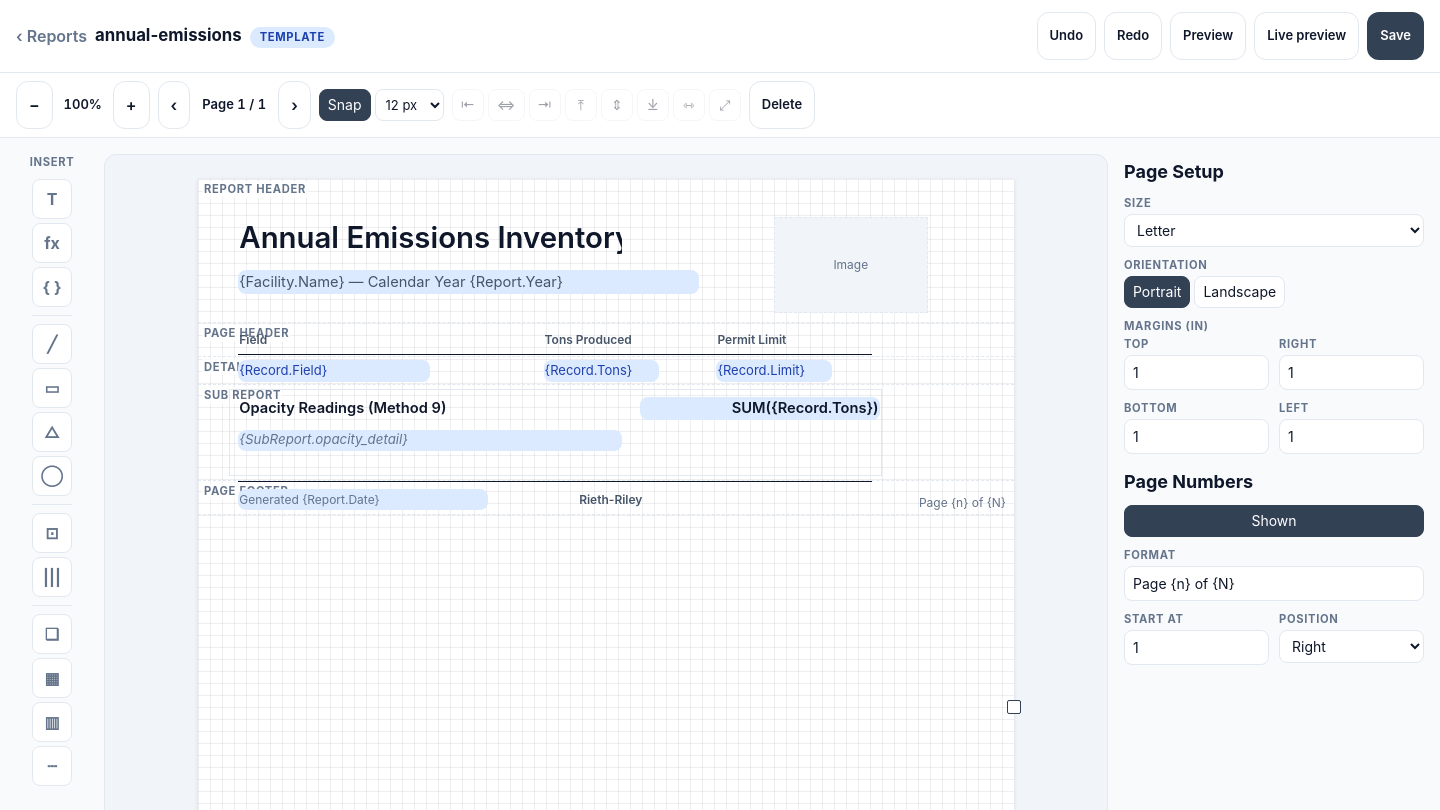
Test case: ReportBuilderScreen — selection (Phase 3) › clears the selection when the empty canvas is clicked
Step 1. Click the button "Annual Emissions Inventory" → click(430, 238), box [238, 221, 622, 254]
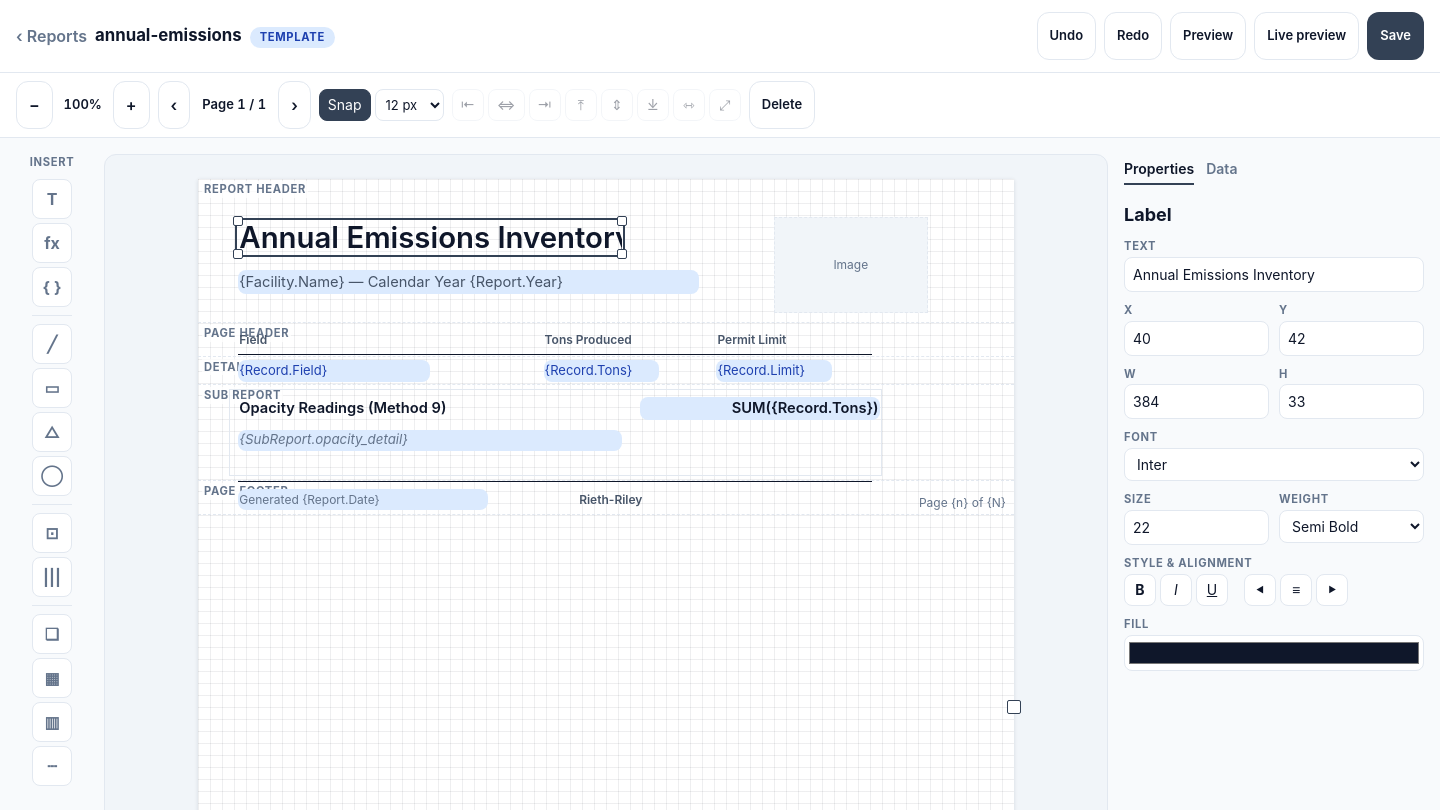
// Click the band region itself (not an element) to clear the selection.
Step 2. Click the element "Report Header" → click(606, 251), box [198, 179, 1014, 323]
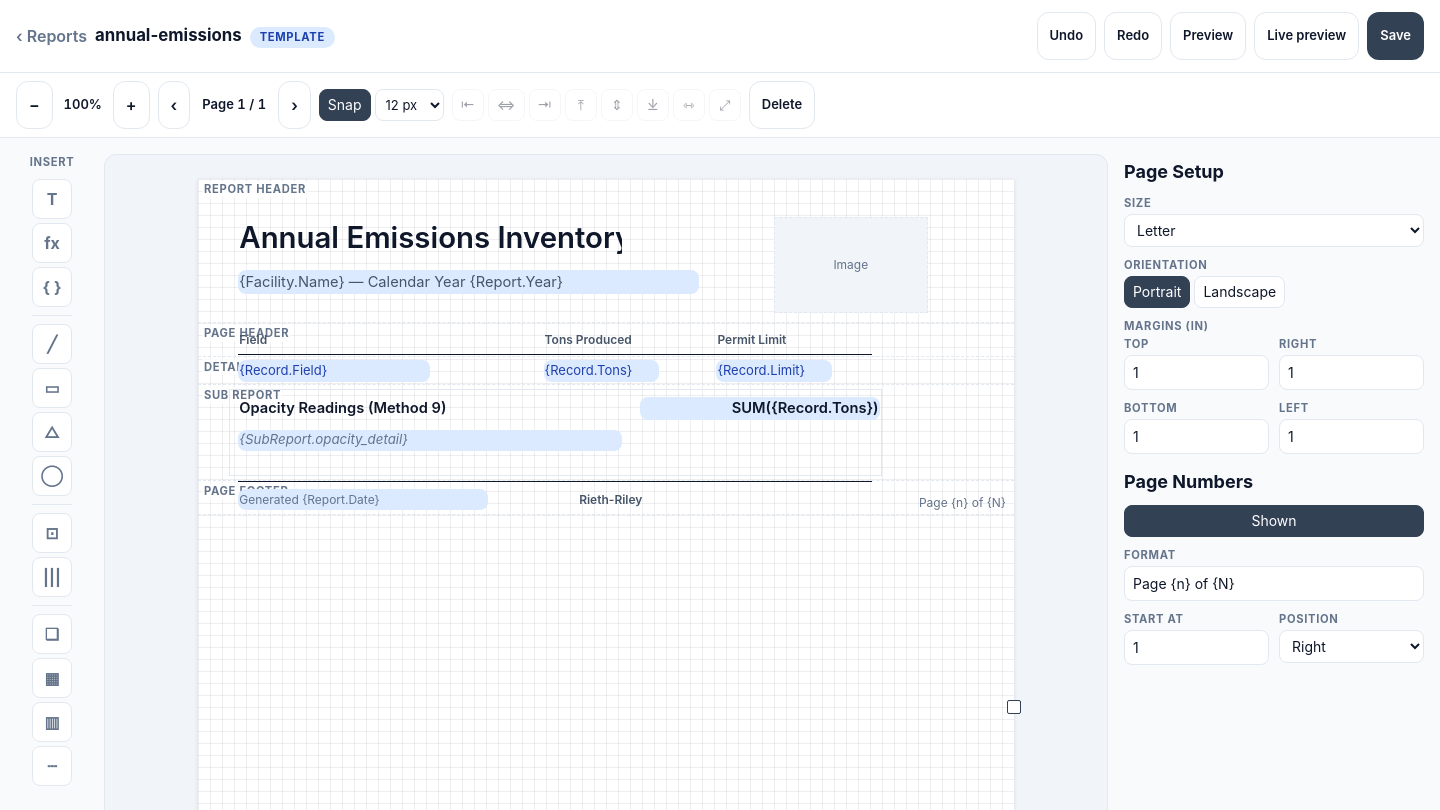
Expected: the text "Page Setup" is shown, [1124, 161, 1224, 182]
